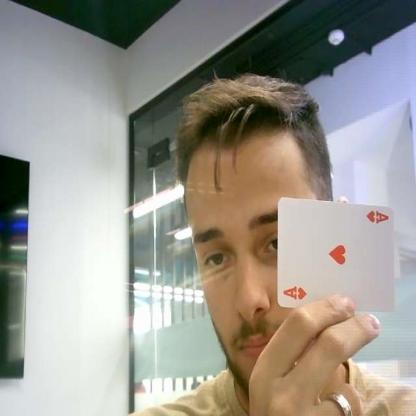AH: (280, 284, 308, 304), (366, 206, 390, 226)
